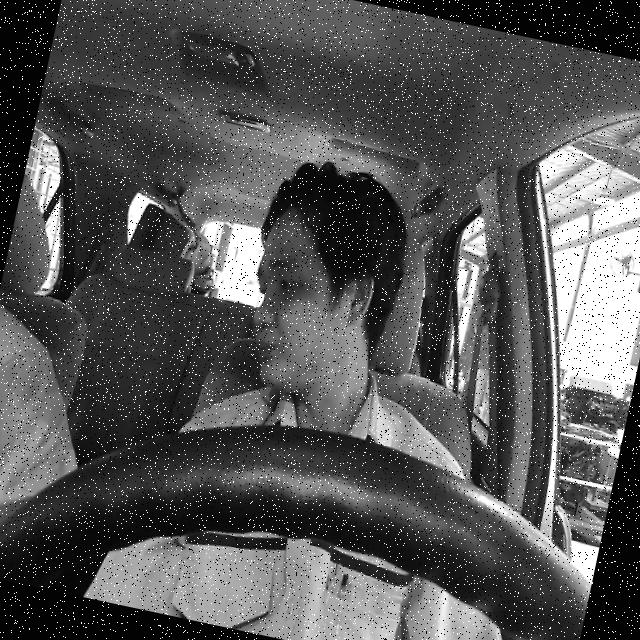seeing_left: (232, 200, 388, 402)
